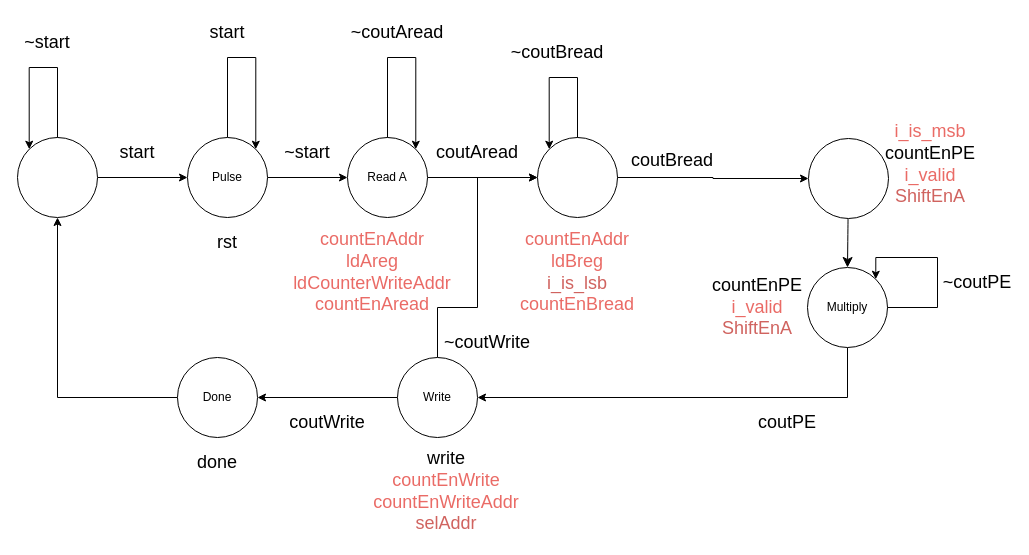
This 1029x555 diagram has some shape labels left out. The centre of each missing label's shape, as x and y in pixels:
Idle: (57,177)
MSB: (848,178)
Read B: (577,177)
